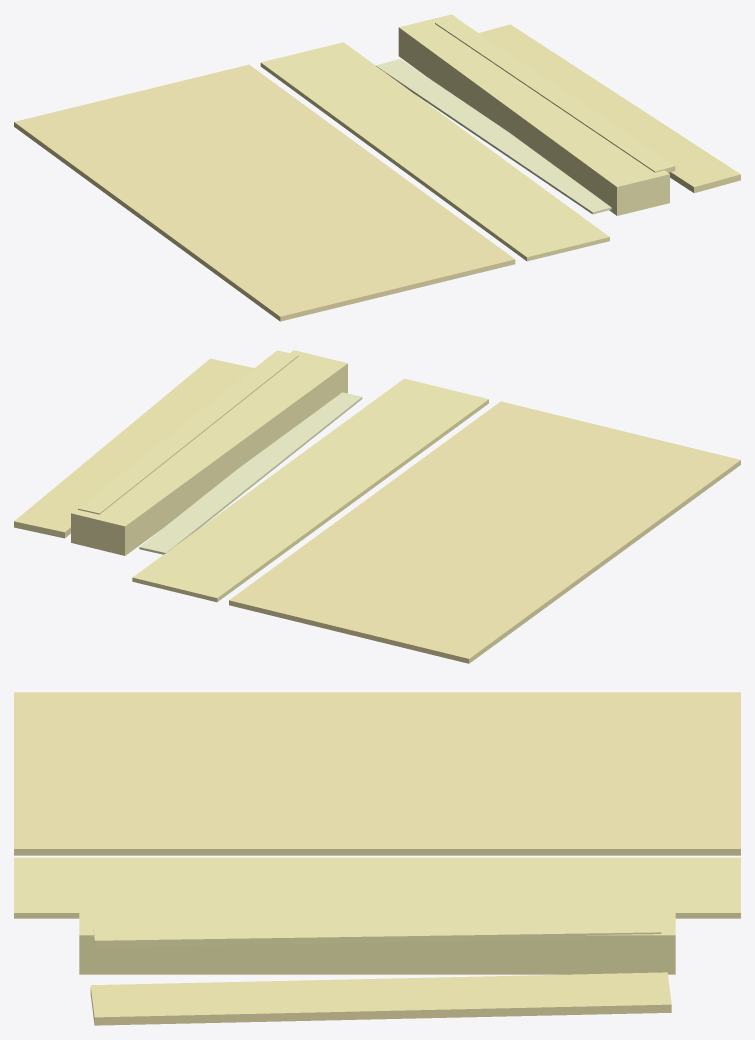
The model's file is road_retaining_wall_shoulder_shelf.glb.
The picture shows the model from 3 angles, top to bottom: view 1: azimuth 30°, elevation 25°; view 2: azimuth 150°, elevation 25°; view 3: azimuth 270°, elevation 25°; orthographic projection. The views are drawn at different scales.
Parts seen in each view (by area): view 1: travel_lane, shoulder_shelf, retaining_wall, slope_fill, drainage_shelf, wall_cap; view 2: travel_lane, shoulder_shelf, retaining_wall, slope_fill, drainage_shelf, wall_cap; view 3: travel_lane, retaining_wall, shoulder_shelf, slope_fill, wall_cap.
Boxes of the visible parts, x1=… form: travel_lane: x1=14, y1=64, x2=515, y2=321; shoulder_shelf: x1=260, y1=42, x2=609, y2=261; retaining_wall: x1=398, y1=14, x2=669, y2=215; slope_fill: x1=479, y1=24, x2=740, y2=193; drainage_shelf: x1=375, y1=59, x2=611, y2=214; wall_cap: x1=435, y1=17, x2=675, y2=172; travel_lane: x1=229, y1=401, x2=740, y2=663; shoulder_shelf: x1=132, y1=378, x2=488, y2=602; retaining_wall: x1=71, y1=350, x2=347, y2=555; slope_fill: x1=14, y1=358, x2=254, y2=538; drainage_shelf: x1=139, y1=392, x2=362, y2=554; wall_cap: x1=78, y1=350, x2=298, y2=514; travel_lane: x1=14, y1=692, x2=740, y2=855; retaining_wall: x1=79, y1=900, x2=675, y2=974; shoulder_shelf: x1=14, y1=857, x2=740, y2=918; slope_fill: x1=90, y1=972, x2=671, y2=1025; wall_cap: x1=93, y1=918, x2=661, y2=947.
Size of the model in its own units: 4.25 by 0.25 by 4.
